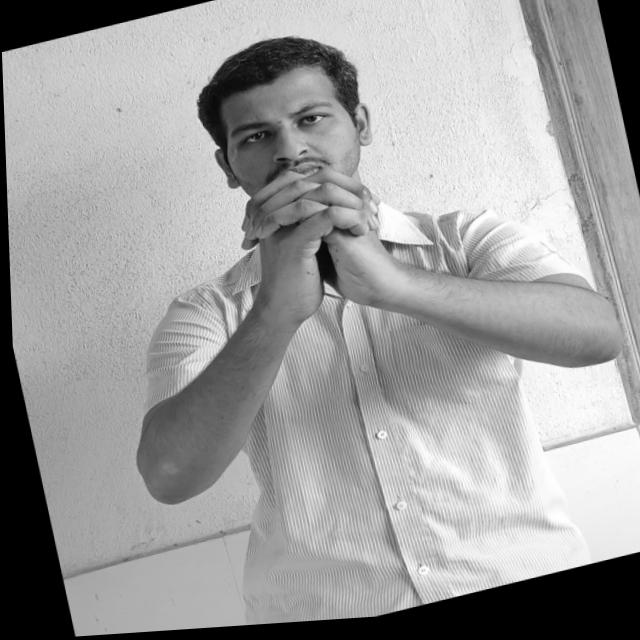Sorry: (229, 152, 404, 327)
